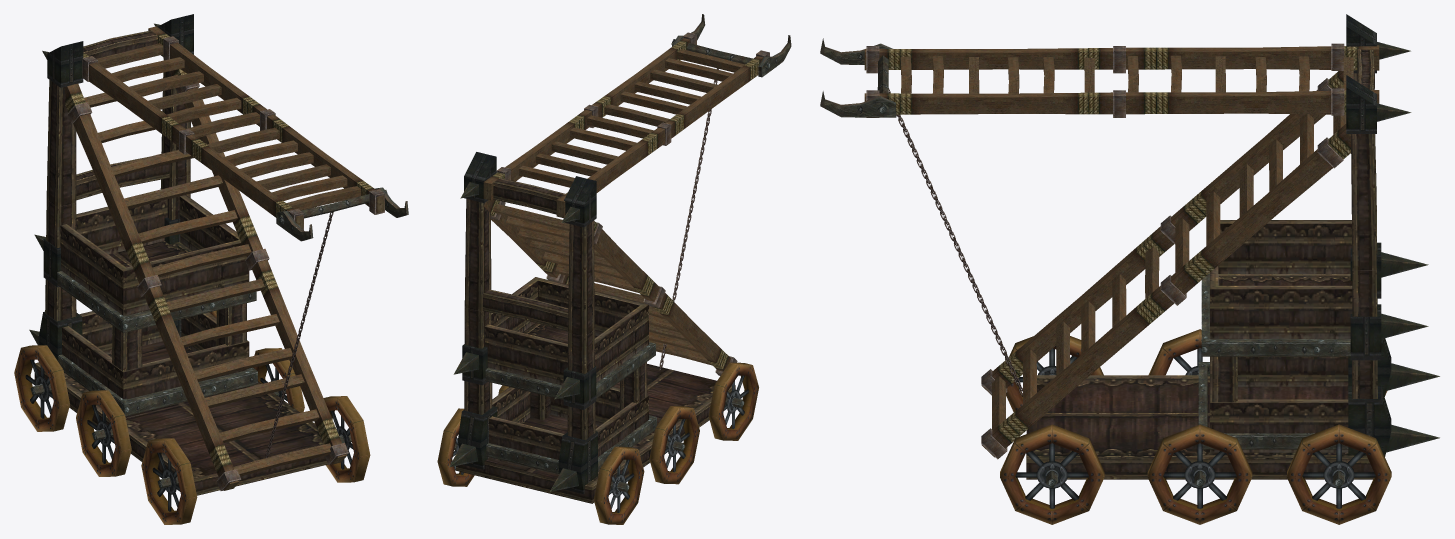
Rendered from environment_Building_fenghuotai_f.FBX.
3 renders of one model, left to right at view 1: azimuth 30°, elevation 25°; view 2: azimuth 150°, elevation 25°; view 3: azimuth 270°, elevation 25°, orthographic. The views are drawn at different scales.
Parts seen in each view (by area): view 1: environment_Building_fenghuotai_f08, environment_Building_fenghuotai_f05, environment_Building_fenghuotai_f04, environment_Building_fenghuotai_f01, environment_Building_fenghuotai_f03, environment_Building_fenghuotai_f02, environment_Building_fenghuotai_f06, environment_Building_fenghuotai_f07; view 2: environment_Building_fenghuotai_f08, environment_Building_fenghuotai_f04, environment_Building_fenghuotai_f05, environment_Building_fenghuotai_f01, environment_Building_fenghuotai_f02, environment_Building_fenghuotai_f03, environment_Building_fenghuotai_f06, environment_Building_fenghuotai_f07; view 3: environment_Building_fenghuotai_f08, environment_Building_fenghuotai_f05, environment_Building_fenghuotai_f04, environment_Building_fenghuotai_f01, environment_Building_fenghuotai_f02, environment_Building_fenghuotai_f03, environment_Building_fenghuotai_f06, environment_Building_fenghuotai_f07.
Boxes of the visible parts, x1,y1,x2,y2 form: environment_Building_fenghuotai_f08: [34, 30, 327, 495]; environment_Building_fenghuotai_f05: [65, 59, 348, 490]; environment_Building_fenghuotai_f04: [82, 26, 384, 229]; environment_Building_fenghuotai_f01: [14, 310, 370, 524]; environment_Building_fenghuotai_f03: [30, 271, 351, 488]; environment_Building_fenghuotai_f02: [29, 14, 193, 361]; environment_Building_fenghuotai_f06: [276, 187, 408, 241]; environment_Building_fenghuotai_f07: [265, 212, 333, 457]; environment_Building_fenghuotai_f08: [456, 178, 735, 503]; environment_Building_fenghuotai_f04: [483, 32, 769, 218]; environment_Building_fenghuotai_f05: [483, 199, 737, 375]; environment_Building_fenghuotai_f01: [437, 362, 758, 524]; environment_Building_fenghuotai_f02: [449, 152, 597, 493]; environment_Building_fenghuotai_f03: [454, 342, 744, 492]; environment_Building_fenghuotai_f06: [671, 14, 791, 77]; environment_Building_fenghuotai_f07: [659, 68, 718, 370]; environment_Building_fenghuotai_f08: [1026, 49, 1377, 479]; environment_Building_fenghuotai_f05: [981, 71, 1350, 459]; environment_Building_fenghuotai_f04: [864, 43, 1379, 117]; environment_Building_fenghuotai_f01: [1000, 329, 1391, 524]; environment_Building_fenghuotai_f02: [1346, 14, 1439, 456]; environment_Building_fenghuotai_f03: [1046, 273, 1350, 488]; environment_Building_fenghuotai_f06: [820, 38, 896, 117]; environment_Building_fenghuotai_f07: [888, 88, 1022, 396].
Size of the model in its own units: 1026 by 2487 by 1880.
